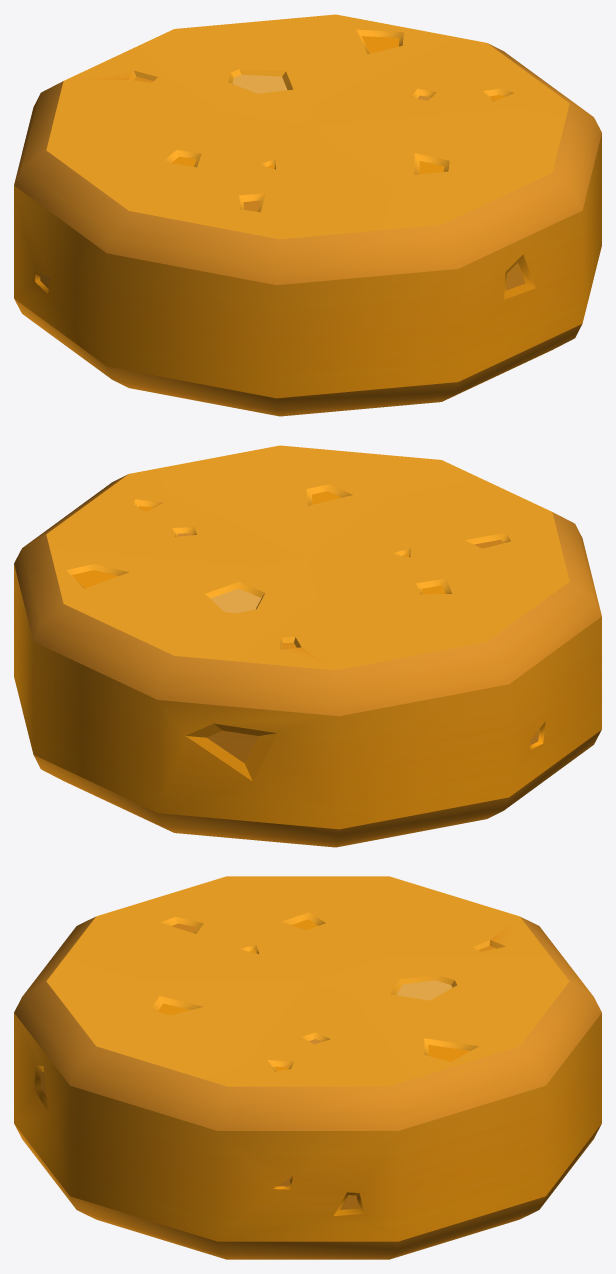
File: Cheese_1.glb
3 renders of one model, top to bottom at view 1: azimuth 30°, elevation 25°; view 2: azimuth 150°, elevation 25°; view 3: azimuth 270°, elevation 25°, orthographic. The views are drawn at different scales.
Parts seen in each view (by area): view 1: Cheese_1; view 2: Cheese_1; view 3: Cheese_1.
Part boxes in pixels (<box>): Cheese_1: <box>14,14,601,416</box>; Cheese_1: <box>14,445,601,847</box>; Cheese_1: <box>14,876,601,1259</box>.
Bounding box in the file's own units: 0.5732 × 0.196 × 0.6027.
1 material, 1 textured.
